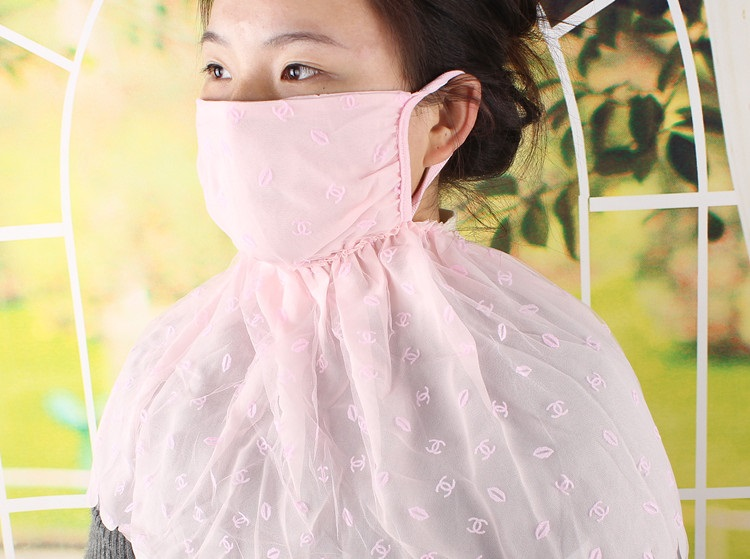face_mask: (202, 1, 417, 257)
